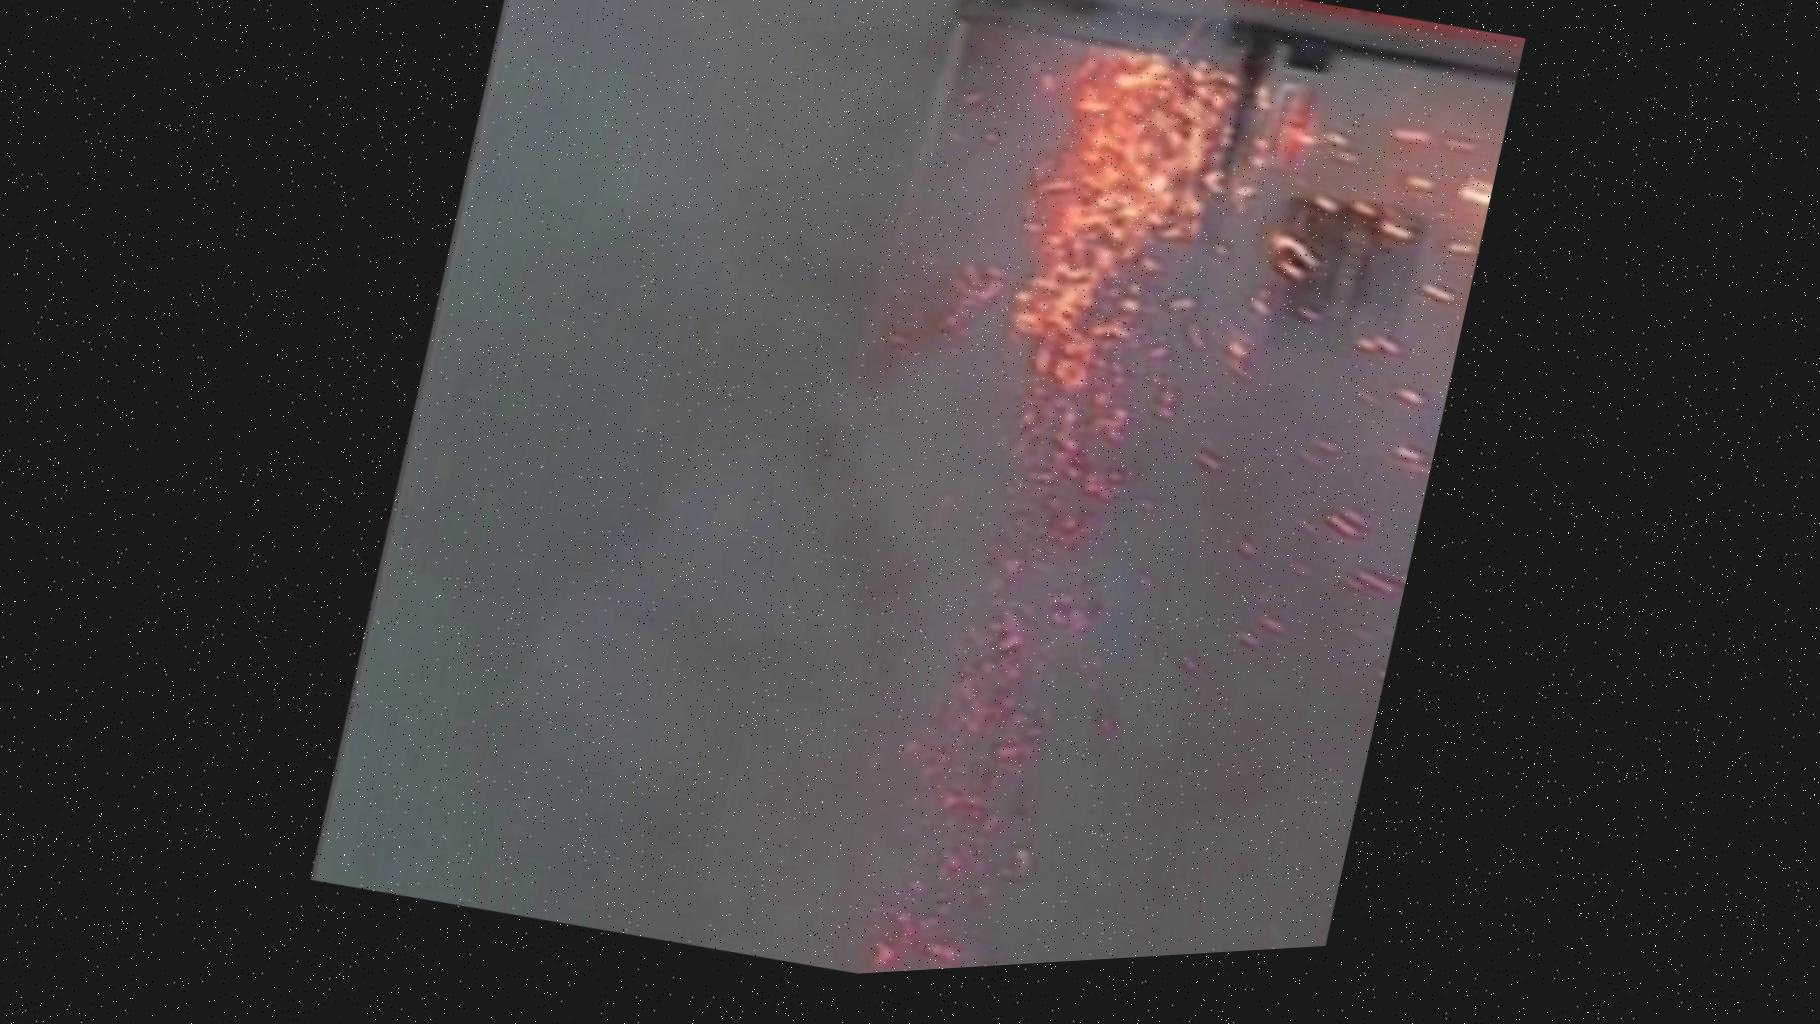fire: (960, 1, 1272, 721)
